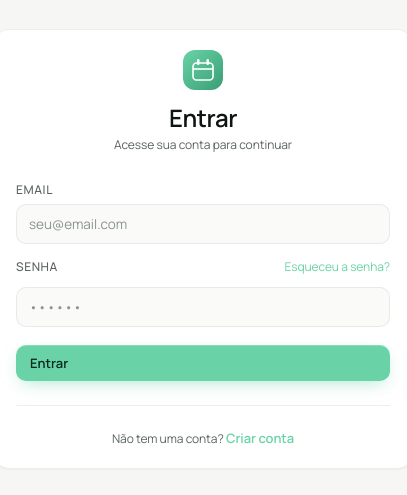
Test: Auth — login › exibe mensagem de erro com credenciais inválidas
This screenshot has width=407, height=495.
Type "wrong@test.com" into the field with placeholder "seu@email.com" at [203, 224], box [16,204,390,244]
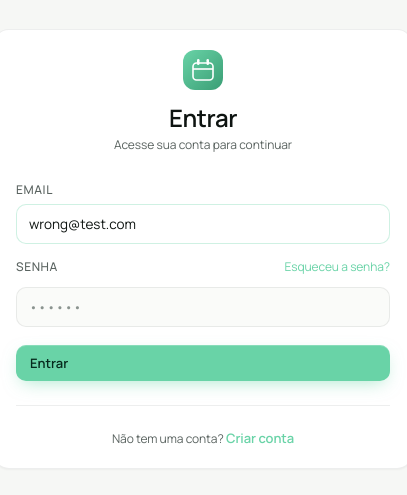
Type "wrongpass" into the password field with placeholder "••••••" at [203, 307], box [16,287,390,327]
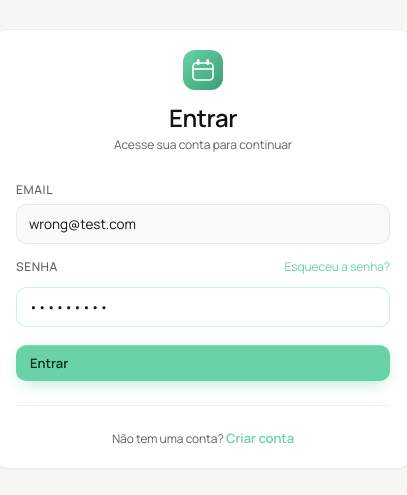
Click the submit button at [49, 363], box [16,345,390,381]
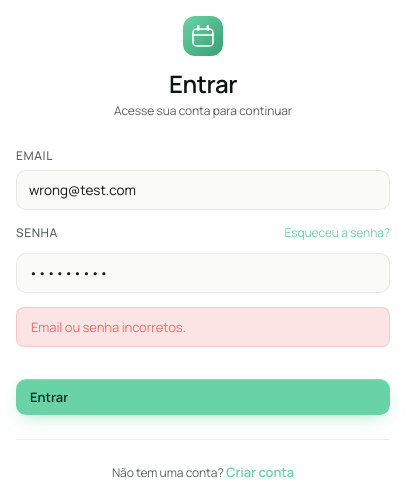
Now the text "Email ou senha incorretos" is shown, box [31,318,186,336]
